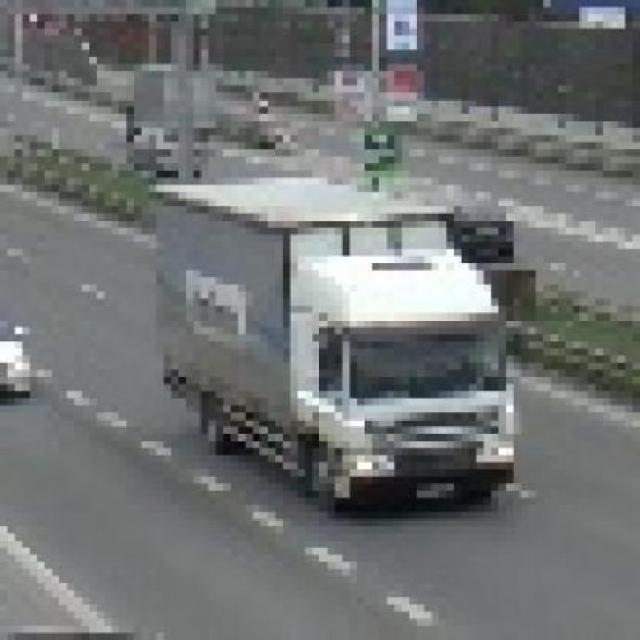truck: (157, 164, 530, 513)
